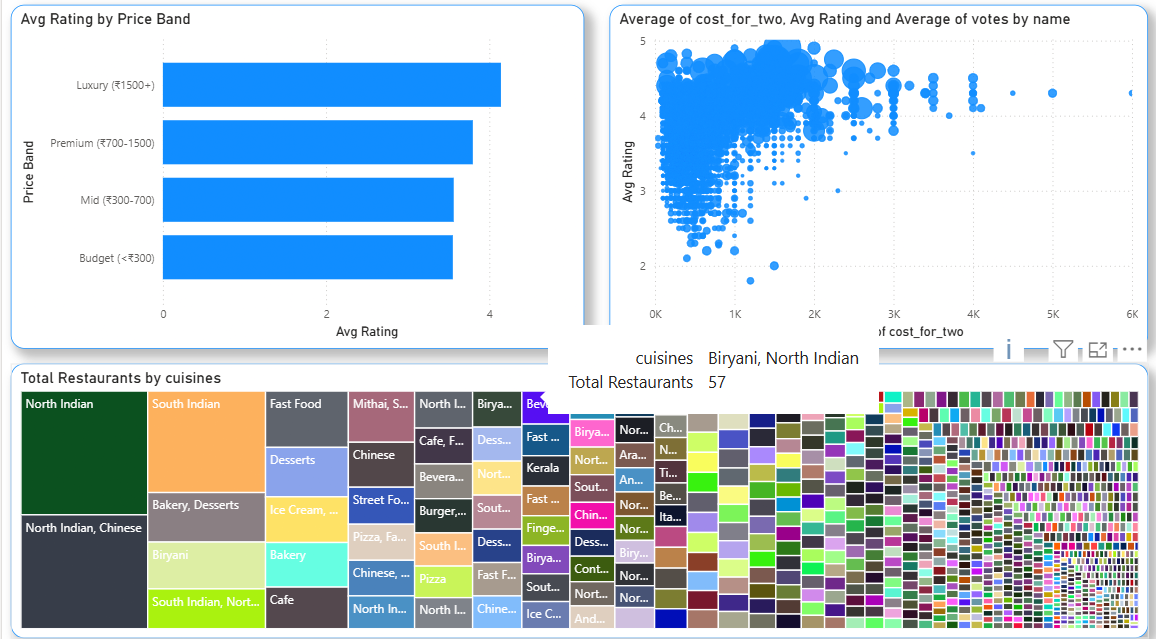

The page's visual inventory and layout, read from the dashboard file:
{"tool":"powerbi","page":{"name":"Cuisine & Pricing Insights","canvas":[1280,720],"ordinal":2},"visuals":[{"type":"barChart","fields":{"Category":["restaurants.Price Band"],"Y":["restaurants.Avg Rating"]},"box":[9.6,15.1,629.8,377.4],"z":0},{"type":"scatterChart","fields":{"Y":["restaurants.Avg Rating"],"X":["Avg(restaurants.cost_for_two)"],"Size":["Avg(restaurants.votes)"],"Category":["restaurants.name"]},"box":[666.9,15.1,591.4,377.4],"z":1000},{"type":"treemap","fields":{"Group":["restaurants.cuisines"],"Values":["restaurants.Total Restaurants"]},"box":[9.6,408.9,1248.7,301.9],"z":2000}]}

Visuals, with their boxes in screenshot pixels (x1, y1, x2, y2), scaled from the page's 1280x720 canvas onto the 1156x639 screenshot:
barChart - restaurants.Price Band x restaurants.Avg Rating: box(9, 13, 577, 348)
scatterChart - restaurants.Avg Rating x Avg(restaurants.cost_for_two): box(602, 13, 1136, 348)
treemap - restaurants.cuisines x restaurants.Total Restaurants: box(9, 363, 1136, 631)
